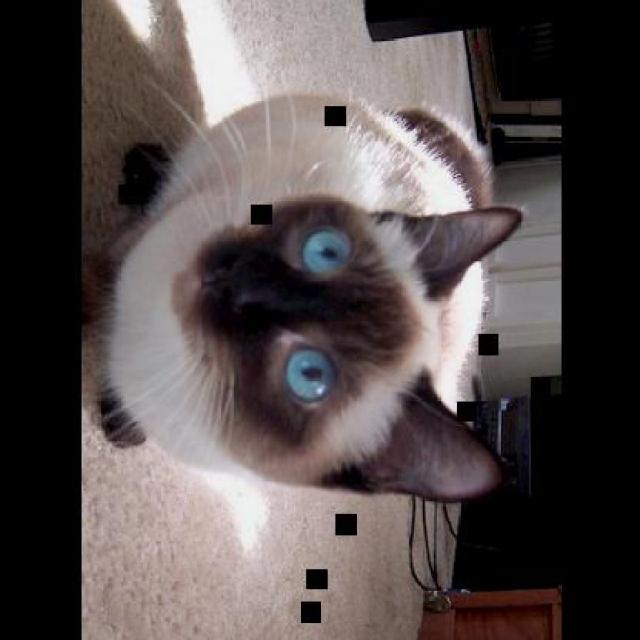unauthorized: (85, 83, 526, 506)
